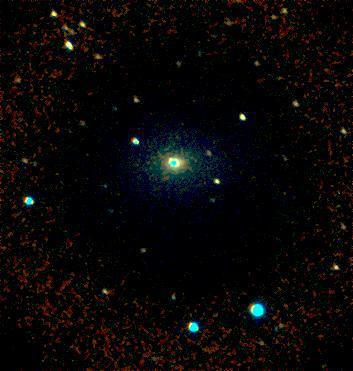star: (155, 143, 185, 173)
